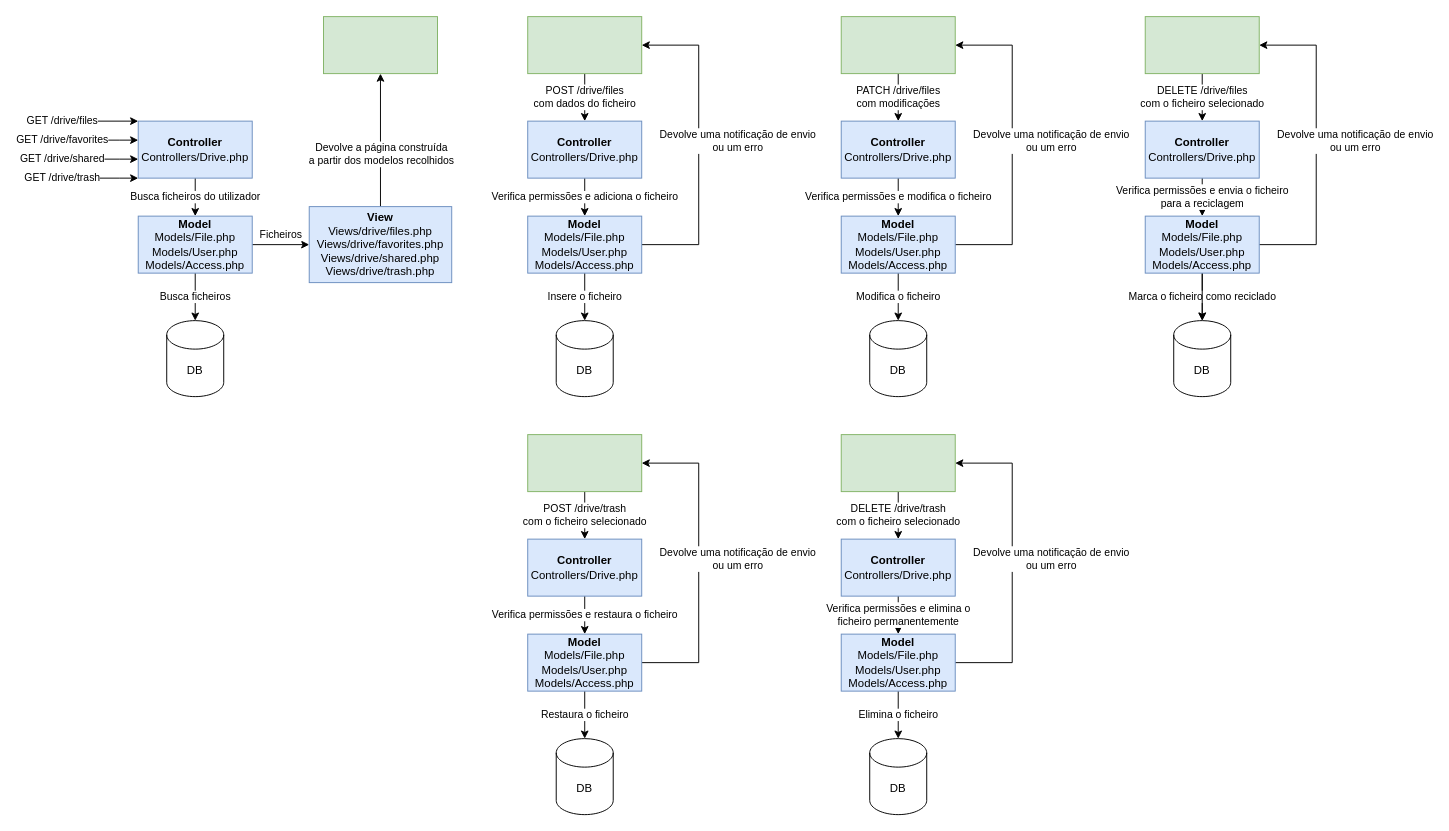
The diagram is 1449 pixels wide and 831 high, and some of its shapes have lost their labels. The centre of each missing label's shape, as x and y in pixels:
"Arrastar ficheiro ou Upload pelo botão +" goes at (x=584, y=45).
"Elimina o ficheiro da drive" goes at (x=1201, y=45).
"Elimina o ficheiro da reciclagem" goes at (x=897, y=463).
"Modifica o ficheiro (renomear, adicionar aos favoritos, partilhar, etc.)" goes at (x=897, y=45).
"Páginas de ficheiros" goes at (x=380, y=45).
"Restaura um ficheiro da reciclagem" goes at (x=584, y=463).
